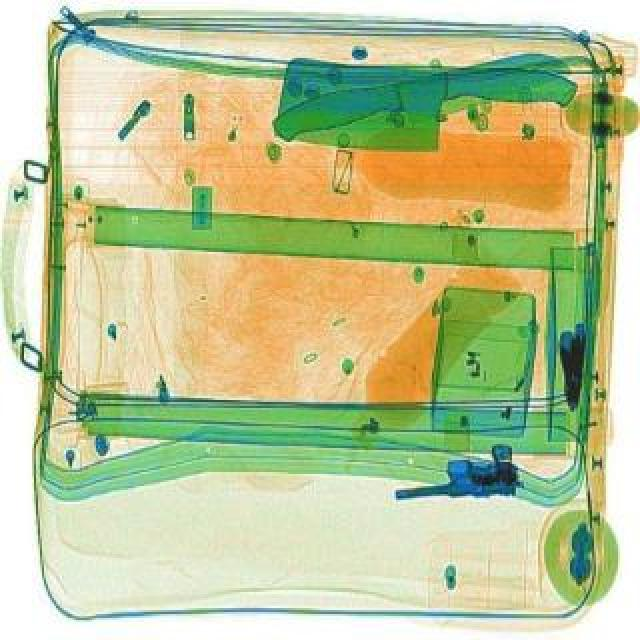gun: (390, 444, 526, 512), (550, 324, 590, 414)
knife: (272, 38, 584, 166), (276, 56, 584, 166)
